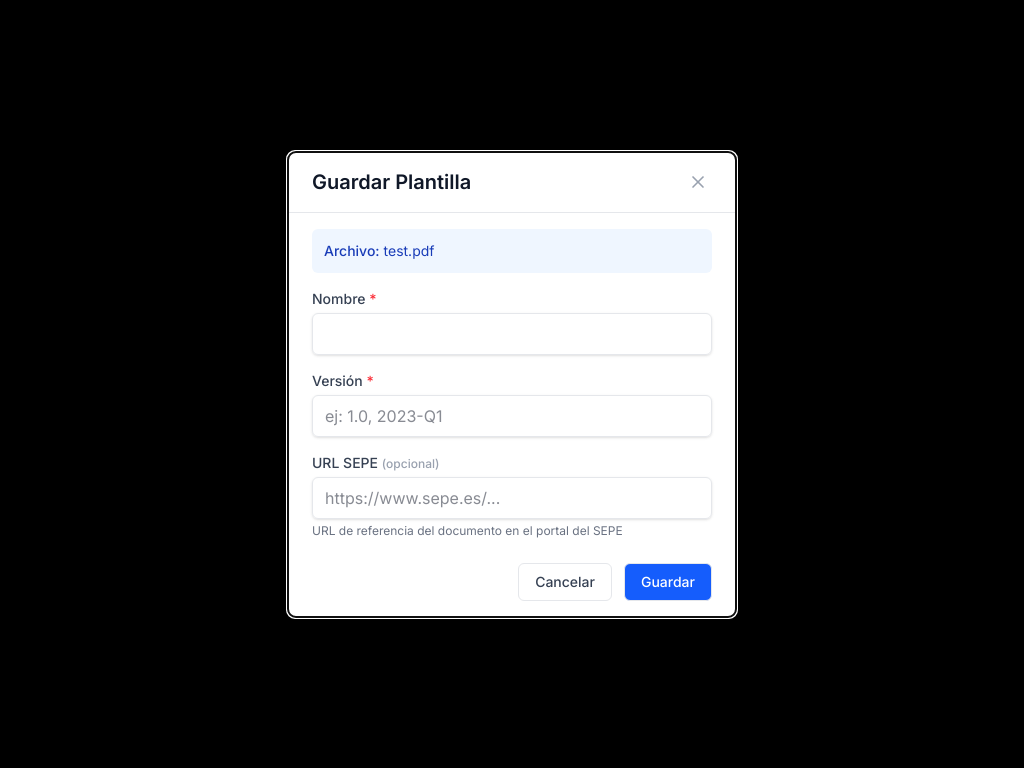
Test: TemplateSaveModal › Form Validation › should show error when version is empty
Type "Test Template" into the field labelled "Nombre *" at (512, 334), box top-left (312, 312), bottom-right (712, 354)
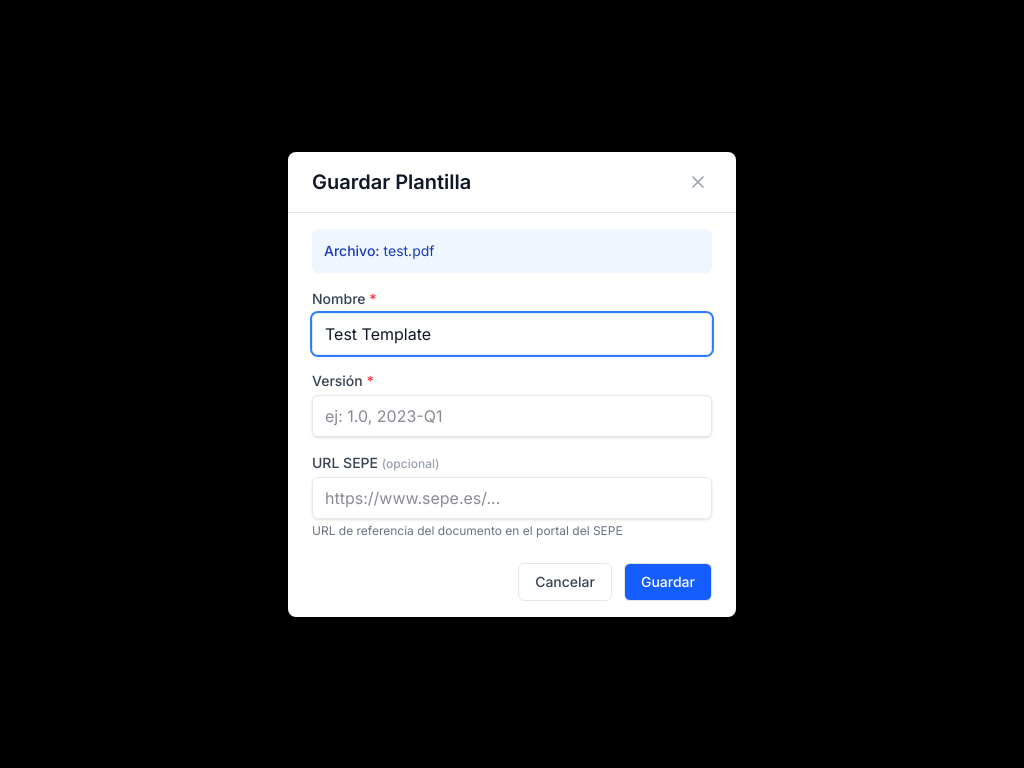
Click the button "Guardar" at (668, 582), box top-left (624, 562), bottom-right (712, 600)
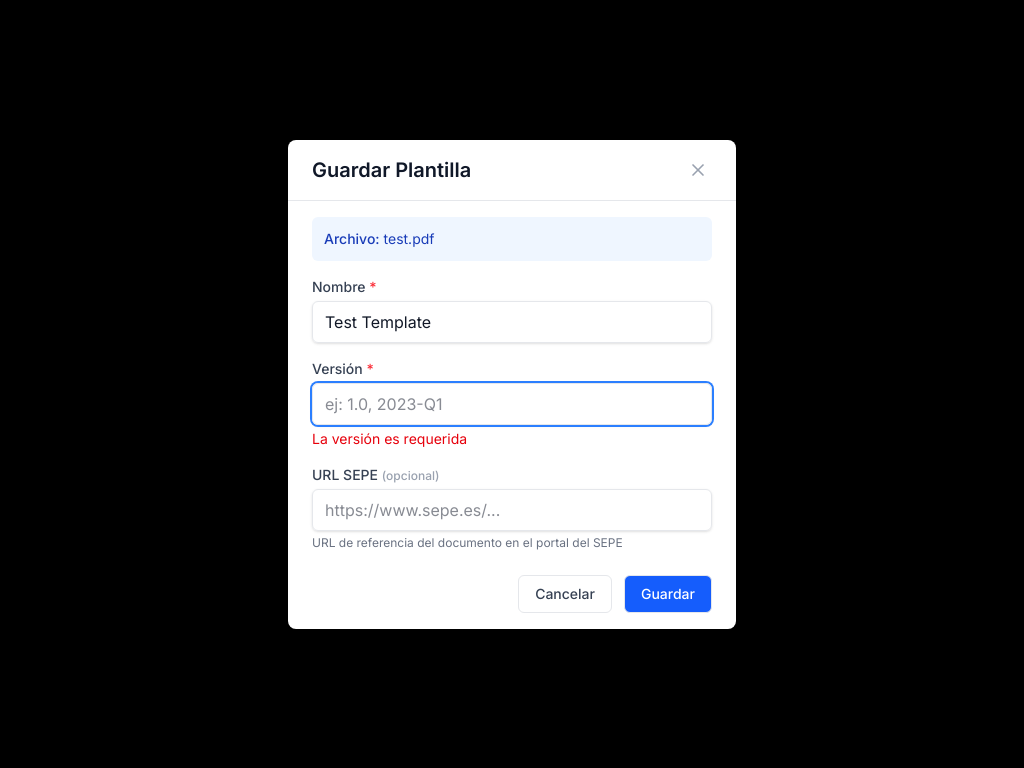
Check: the text "La versión es requerida" is shown, box top-left (312, 430), bottom-right (467, 446)
